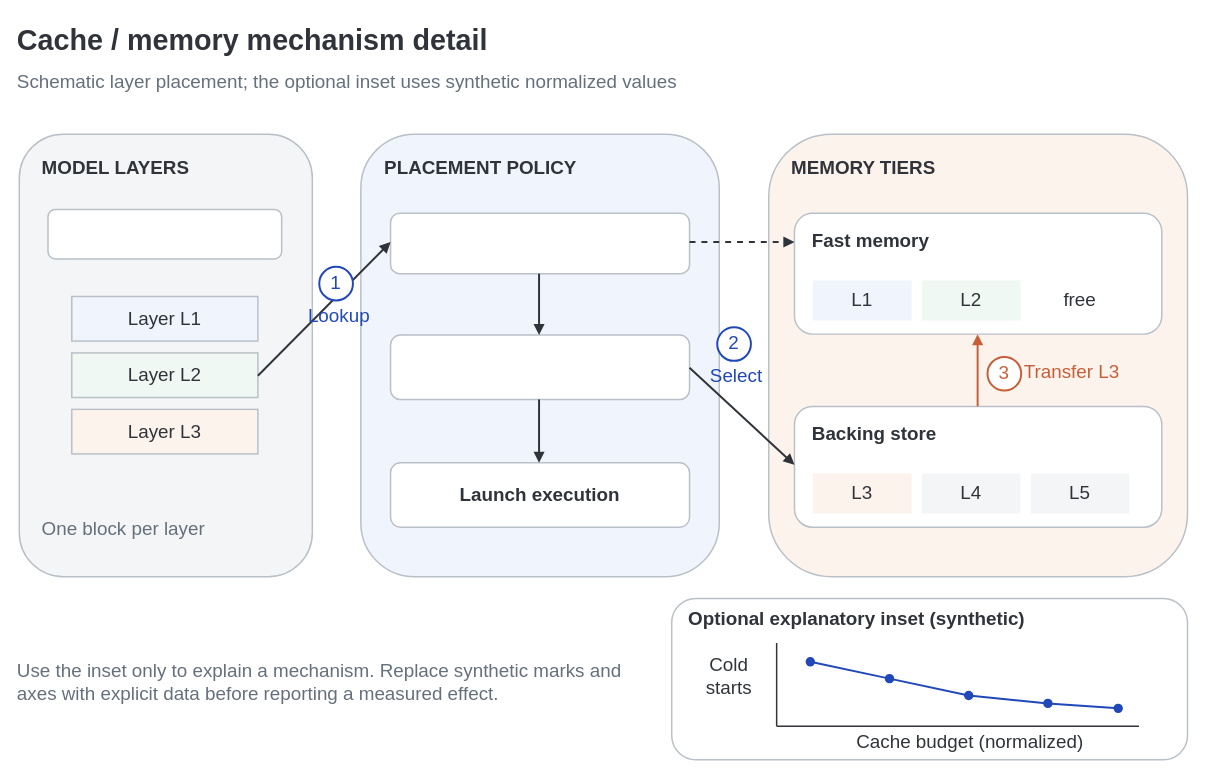
Some shapes in this 1205 by 777 pixel diagram are drawn without their labels. Each missing label, with the centre of its shape:
"Incoming request" goes at (164,233).
"Look up resident layers" goes at (539,243).
"Select transfers" goes at (539,367).
